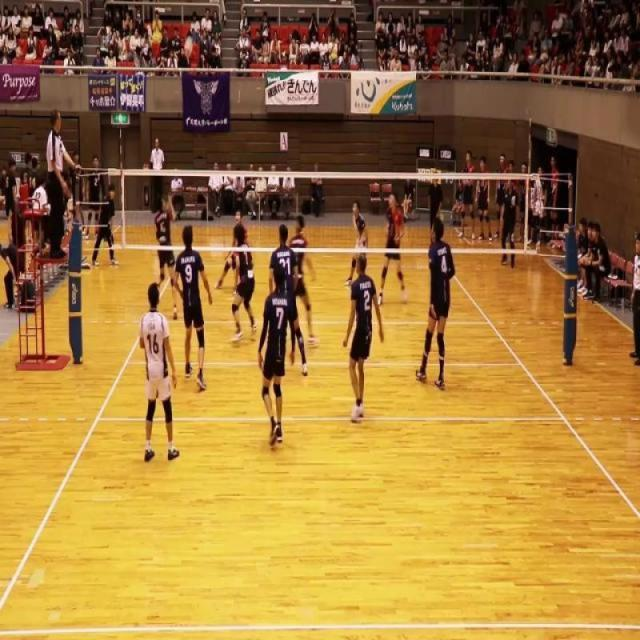volleyball: (184, 36, 193, 51)
